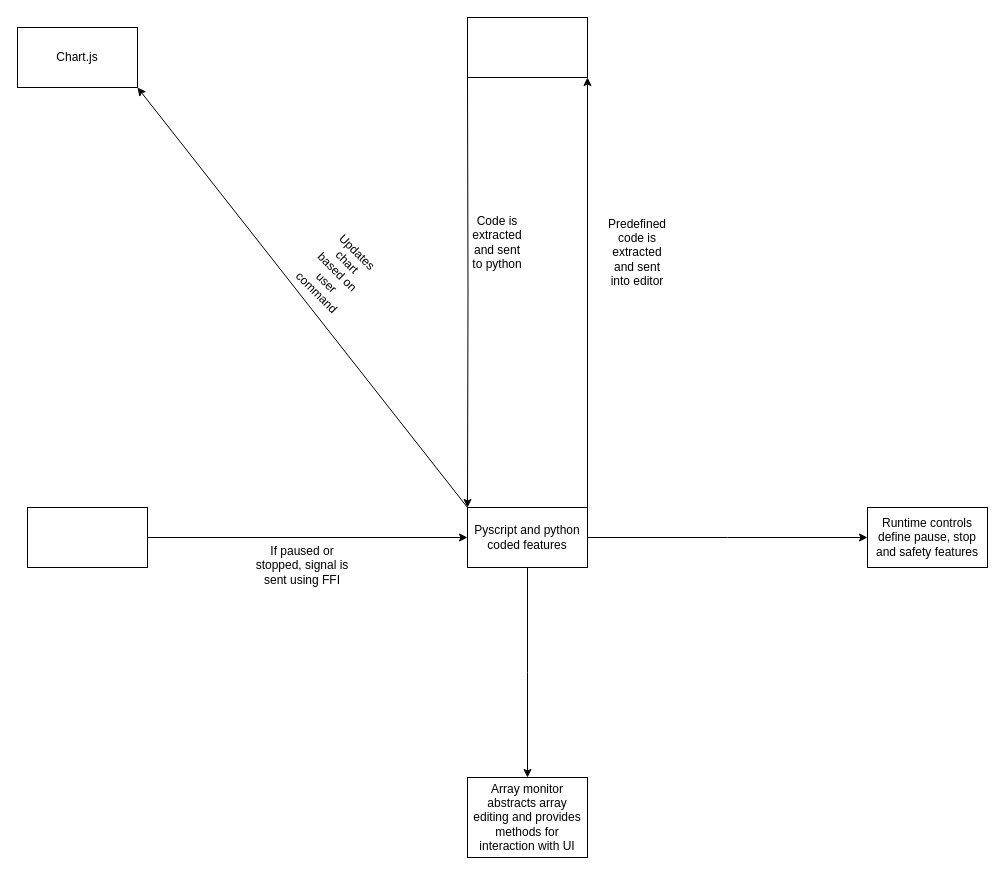
This 1005x875 diagram has some shape labels left out. Each missing label, with the centre of its shape:
Code Editor: point (527, 47)
Runtime controls: point (87, 537)
